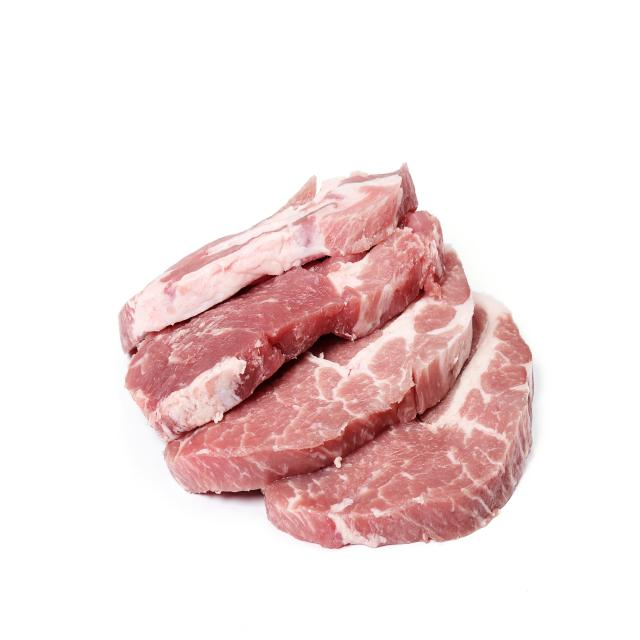Pork: (124, 174, 447, 446), (162, 243, 476, 492), (262, 274, 537, 554), (116, 162, 422, 360)
